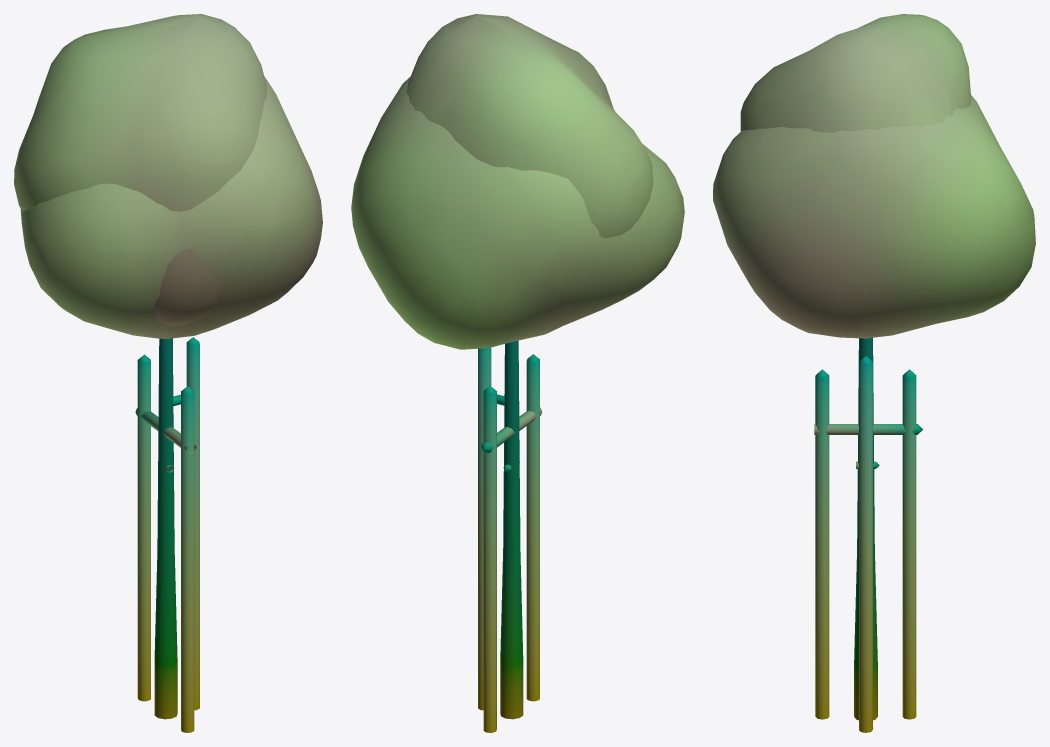
Rendered from sapling.glb.
3 views of the same model, side by side, from view 1: azimuth 30°, elevation 25°; view 2: azimuth 150°, elevation 25°; view 3: azimuth 270°, elevation 25° (orthographic).
Visible parts, largest first — view 1: sapling_1_lod0, sapling_0_lod0; view 2: sapling_0_lod0, sapling_1_lod0; view 3: sapling_0_lod0, sapling_1_lod0.
Part boxes in pixels (box(x1,y1,x2,y2)): sapling_1_lod0: box(14, 14, 266, 732); sapling_0_lod0: box(20, 76, 322, 710); sapling_0_lod0: box(351, 77, 684, 710); sapling_1_lod0: box(406, 14, 653, 732); sapling_0_lod0: box(713, 95, 1035, 732); sapling_1_lod0: box(740, 14, 971, 720).
Size of what is drawn, in the model's own units: 1.59 by 3.88 by 1.63.
